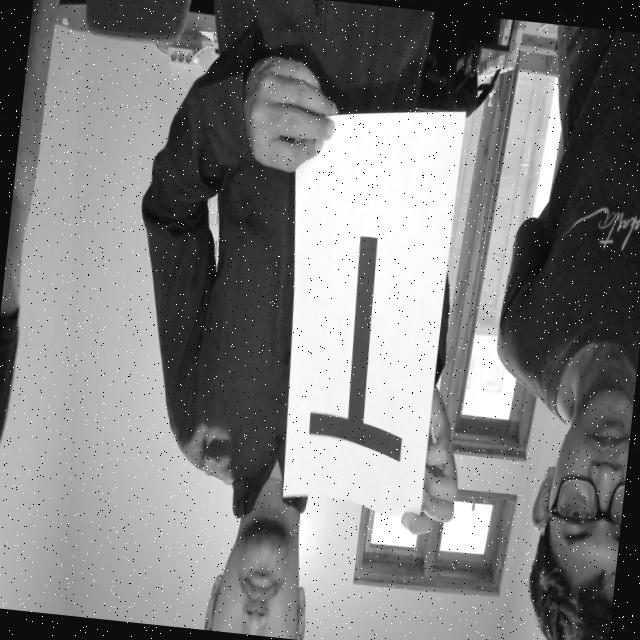t: (279, 200, 436, 486)
